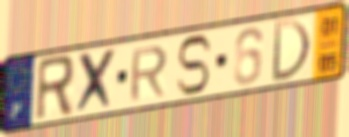6: (232, 25, 264, 88)
D: (269, 17, 313, 85)
R: (33, 53, 76, 125), (128, 43, 170, 104)
S: (174, 33, 214, 98)
X: (72, 45, 119, 117)
